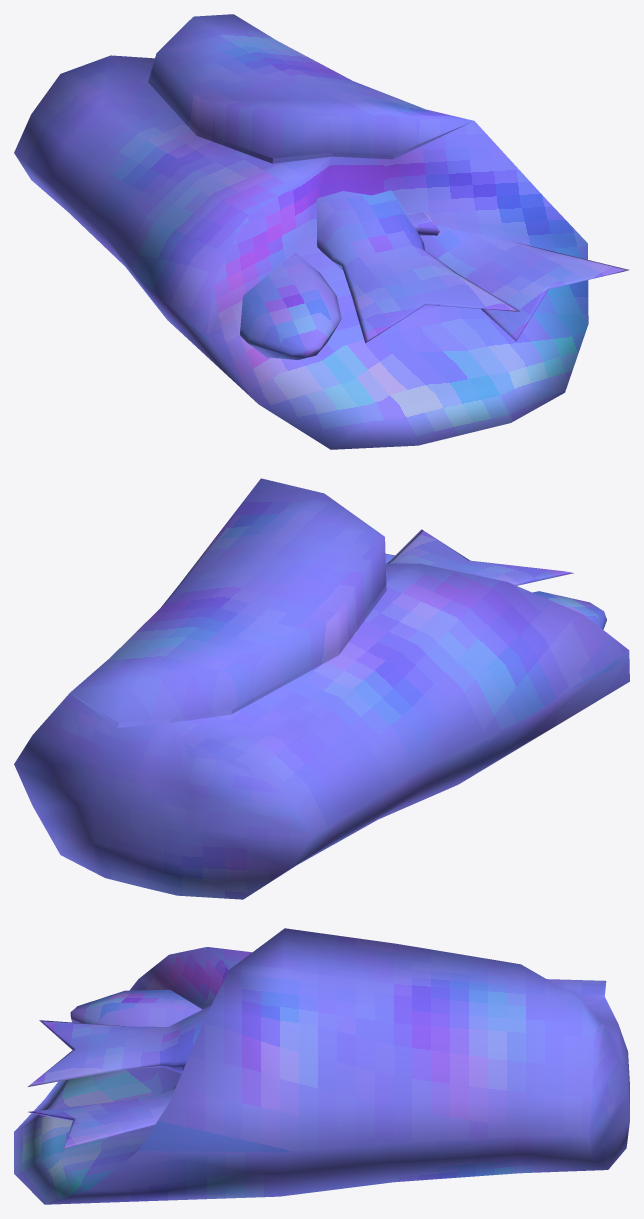
The model's file is Durum(Clone).fbx.
3 renders of one model, top to bottom at view 1: azimuth 30°, elevation 25°; view 2: azimuth 150°, elevation 25°; view 3: azimuth 270°, elevation 25°, orthographic. The views are drawn at different scales.
Visible parts, largest first — view 1: attach; view 2: attach; view 3: attach.
Boxes of the visible parts, x1,y1,x2,y2 form: attach: [14, 14, 628, 449]; attach: [14, 478, 629, 899]; attach: [14, 928, 629, 1204].
Size of the model in its own units: 37.86 by 21.04 by 57.12.
1 material, 1 textured.
